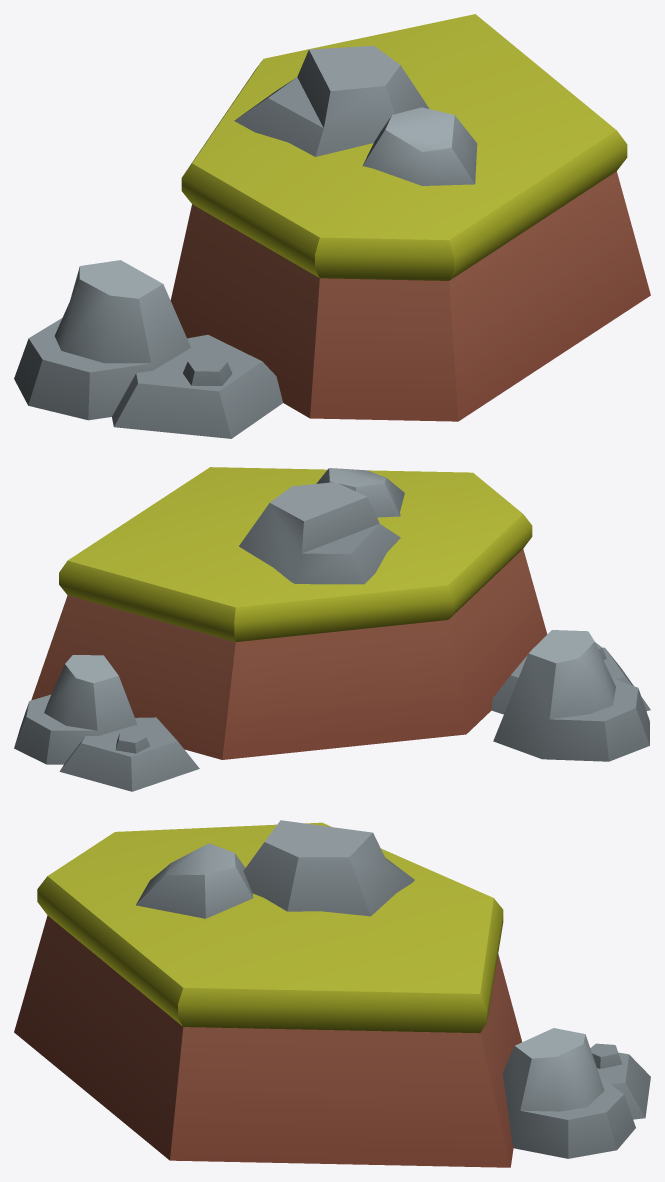
The model's file is hills_C.glb.
3 views of the same model, one above another, from view 1: azimuth 30°, elevation 25°; view 2: azimuth 150°, elevation 25°; view 3: azimuth 270°, elevation 25° (orthographic). The views are drawn at different scales.
Parts seen in each view (by area): view 1: hills_C; view 2: hills_C; view 3: hills_C.
Boxes of the visible parts, bbox=[...] form: hills_C: bbox=[14, 14, 650, 438]; hills_C: bbox=[14, 467, 650, 791]; hills_C: bbox=[14, 820, 650, 1167].
Size of the model in its own units: 1.53 by 0.5547 by 1.47.
Materials: 1 (1 with a texture image).
